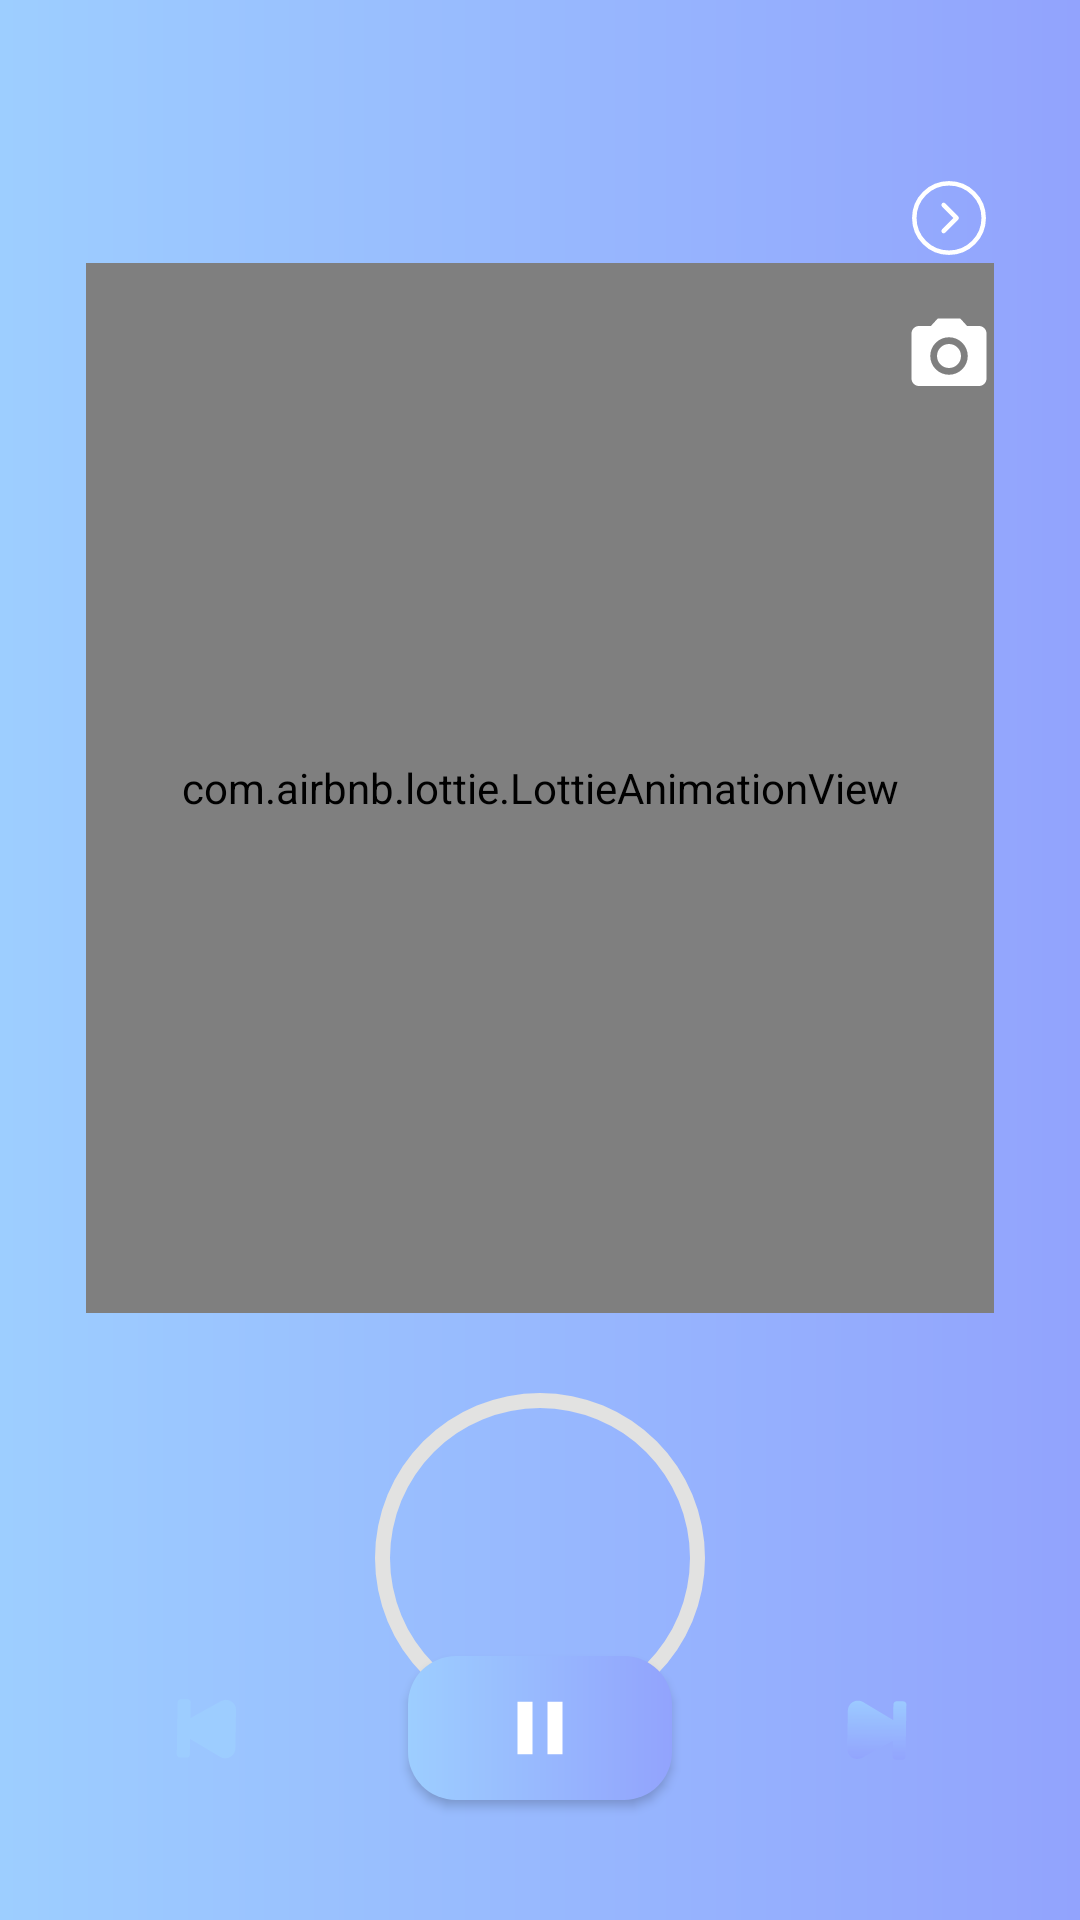

Icons on this 1080px x 1920px Android screen, each with the point to tap as point (x, y):
arrow right: point (949, 218)
camera: point (949, 352)
